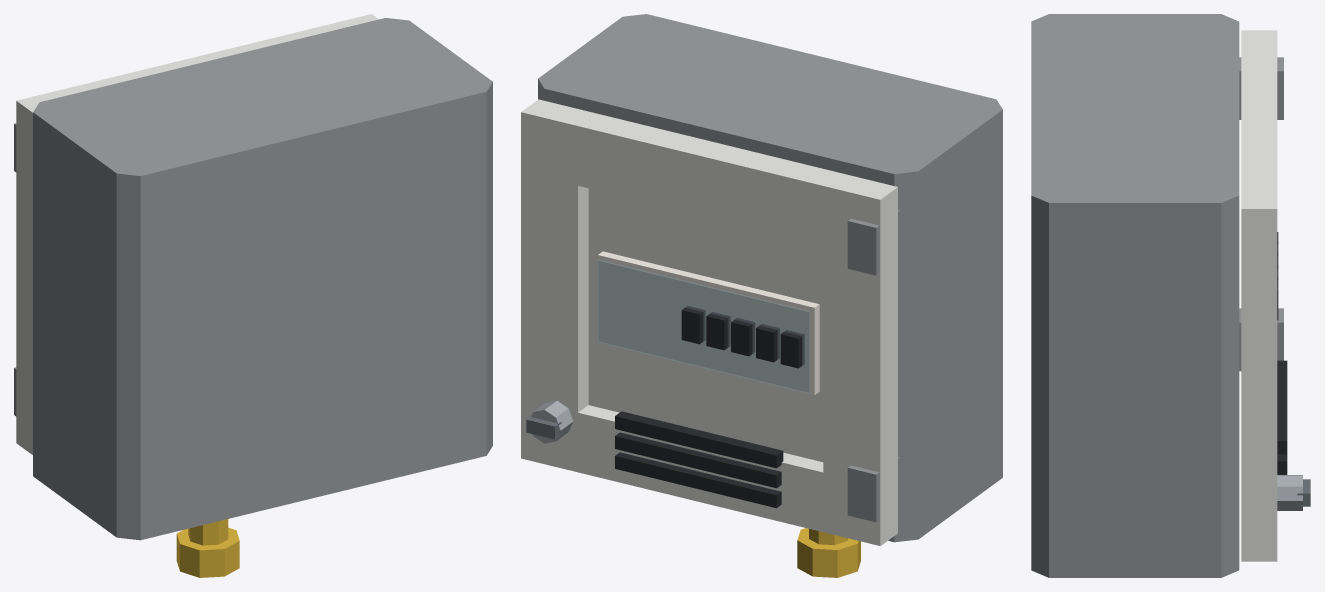
Rendered from SM_LPI_Util_MeterBox_01.fbx.
The picture shows the model from 3 angles, left to right: view 1: azimuth 30°, elevation 25°; view 2: azimuth 150°, elevation 25°; view 3: azimuth 270°, elevation 25°; orthographic projection. The views are drawn at different scales.
Parts seen in each view (by area): view 1: SM_LPI_Util_MeterBox_01; view 2: SM_LPI_Util_MeterBox_01; view 3: SM_LPI_Util_MeterBox_01.
Part boxes in pixels (<box>): SM_LPI_Util_MeterBox_01: <box>14,14,492,577</box>; SM_LPI_Util_MeterBox_01: <box>521,14,1002,577</box>; SM_LPI_Util_MeterBox_01: <box>1031,14,1310,577</box>.
Size of the model in its own units: 0.4 by 0.46 by 0.25.
